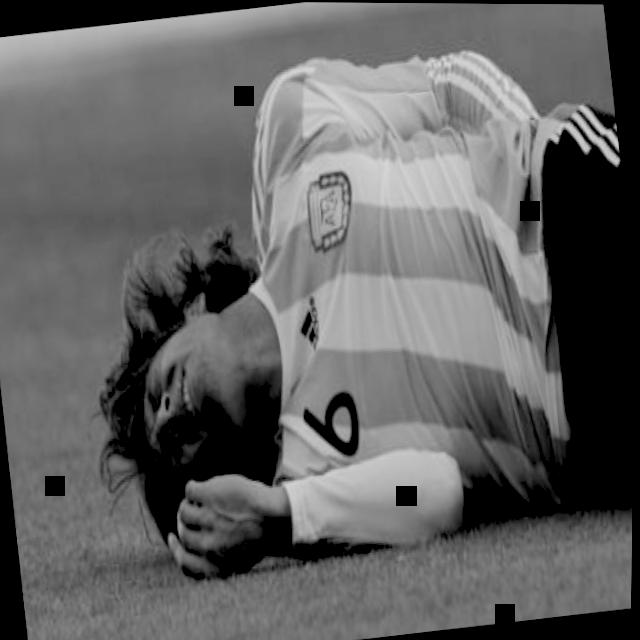Fall-Detected: (41, 0, 640, 601)
